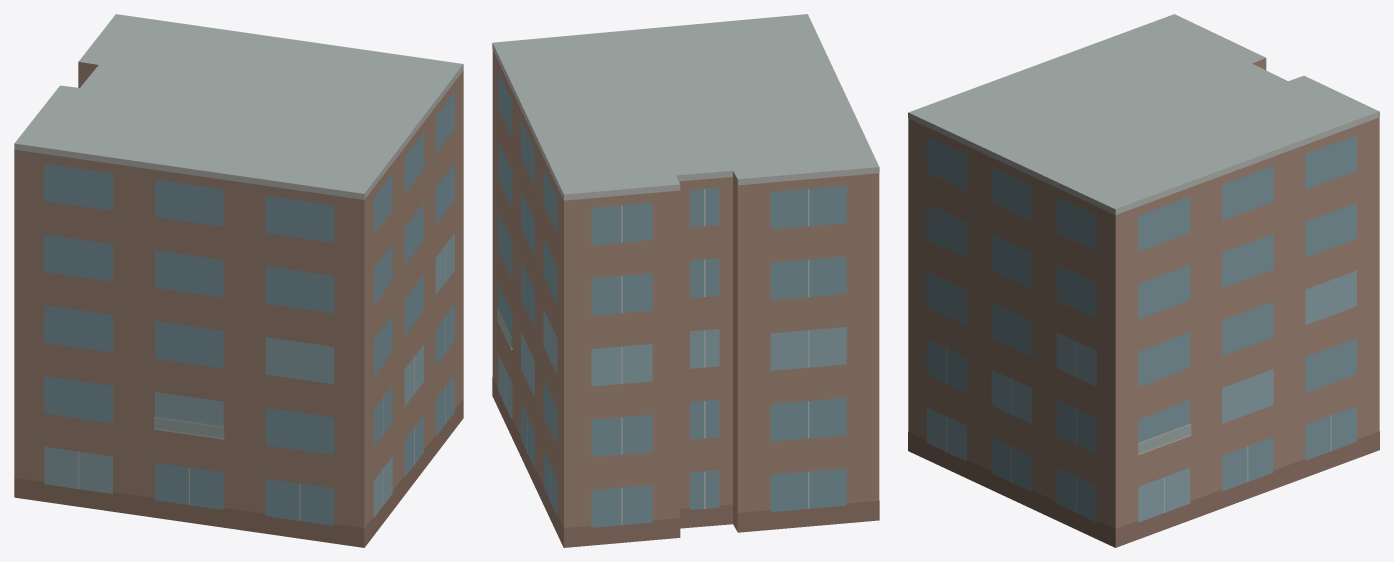
The model's file is survey-upis-32889213.glb.
3 views of the same model, side by side, from view 1: azimuth 30°, elevation 25°; view 2: azimuth 150°, elevation 25°; view 3: azimuth 270°, elevation 25° (orthographic). The views are drawn at different scales.
Parts seen in each view (by area): view 1: survey-upis-32889213.tmp; view 2: survey-upis-32889213.tmp; view 3: survey-upis-32889213.tmp.
Part boxes in pixels (x1,y1,x2,y2): survey-upis-32889213.tmp: [14, 14, 463, 547]; survey-upis-32889213.tmp: [492, 14, 879, 547]; survey-upis-32889213.tmp: [908, 14, 1379, 547].
Size of the model in its own units: 17.58 by 14.2 by 17.93.
